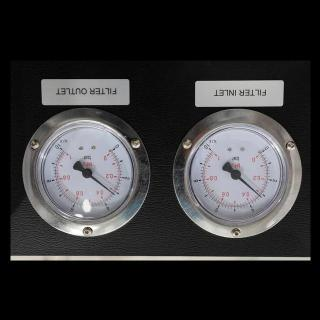gauge: (11, 105, 147, 252), (172, 107, 310, 249), (252, 144, 270, 162), (203, 144, 221, 160), (57, 144, 74, 159), (105, 142, 119, 158), (230, 169, 241, 179), (81, 168, 91, 178), (110, 192, 118, 198), (257, 193, 263, 199)
